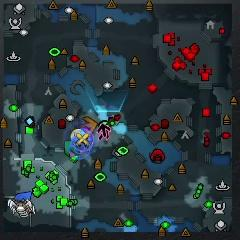p1: (15, 190, 32, 202)
x1Clone: (97, 123, 111, 137), (98, 133, 111, 140)
x4: (64, 140, 77, 157)
x5: (80, 116, 97, 133)
